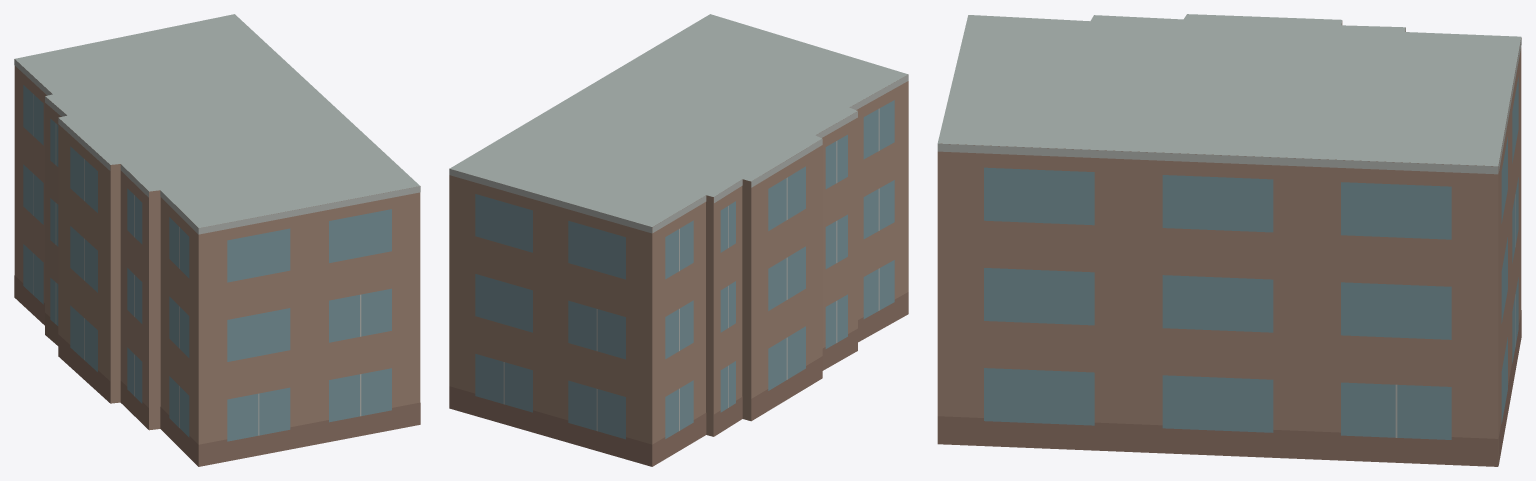
File: survey-upis-32888070.glb
3 renders of one model, left to right at view 1: azimuth 30°, elevation 25°; view 2: azimuth 150°, elevation 25°; view 3: azimuth 270°, elevation 25°, orthographic. The views are drawn at different scales.
Parts seen in each view (by area): view 1: survey-upis-32888070.tmp; view 2: survey-upis-32888070.tmp; view 3: survey-upis-32888070.tmp.
Part boxes in pixels (bbox=[...]): survey-upis-32888070.tmp: bbox=[14, 14, 420, 466]; survey-upis-32888070.tmp: bbox=[449, 14, 908, 466]; survey-upis-32888070.tmp: bbox=[937, 14, 1521, 466].
Size of the model in its own units: 9.95 by 9.15 by 16.12.
